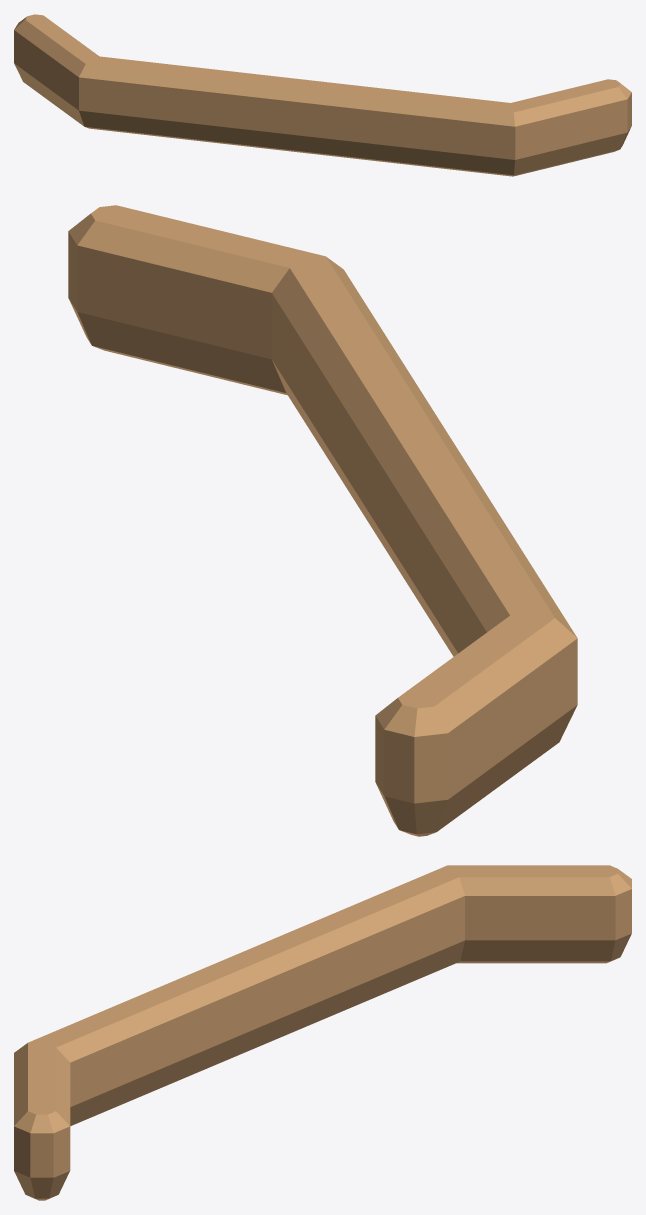
File: Balcony_Base_Tower.fbx
3 renders of one model, top to bottom at view 1: azimuth 30°, elevation 25°; view 2: azimuth 150°, elevation 25°; view 3: azimuth 270°, elevation 25°, orthographic. The views are drawn at different scales.
Visible parts, largest first — view 1: object1; view 2: object1; view 3: object1.
Boxes of the visible parts, x1,y1,x2,y2 form: object1: (14,14,631,176); object1: (68,205,577,836); object1: (14,865,631,1200).
Size of the model in its own units: 2.2 by 0.35 by 2.2.
